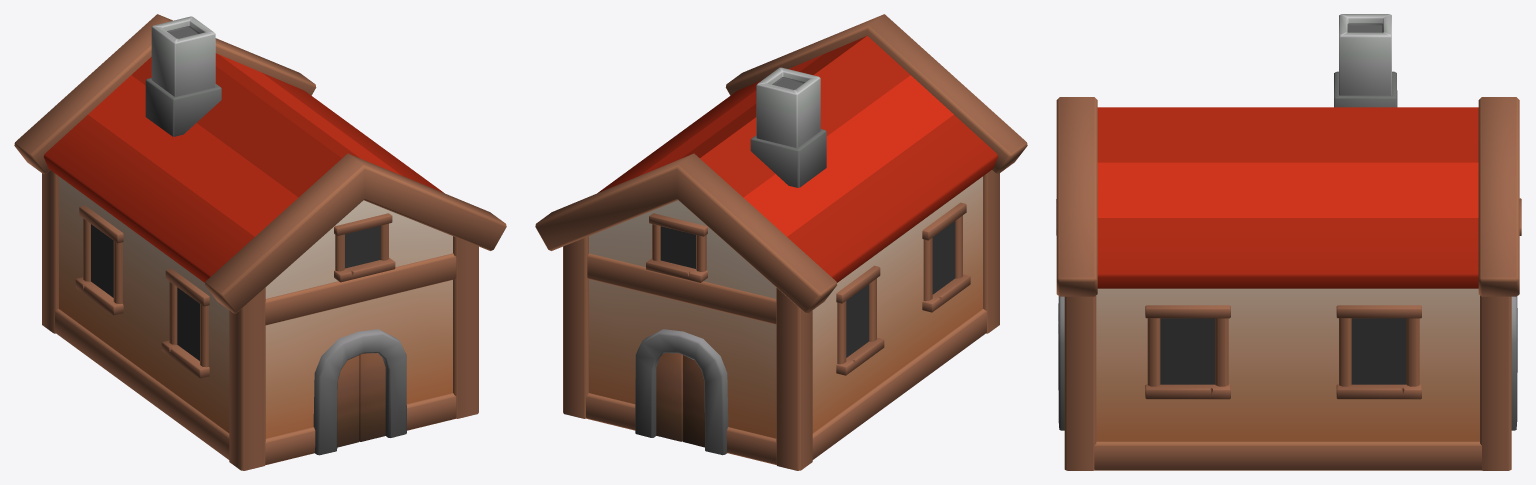
File: House_3.fbx
3 renders of one model, left to right at view 1: azimuth 30°, elevation 25°; view 2: azimuth 150°, elevation 25°; view 3: azimuth 270°, elevation 25°, orthographic. The views are drawn at different scales.
Parts seen in each view (by area): view 1: House_3; view 2: House_3; view 3: House_3.
Part boxes in pixels (<box>): House_3: <box>14,14,506,470</box>; House_3: <box>535,14,1027,470</box>; House_3: <box>1056,14,1521,470</box>.
Size of the model in its own units: 339 by 368 by 431.
